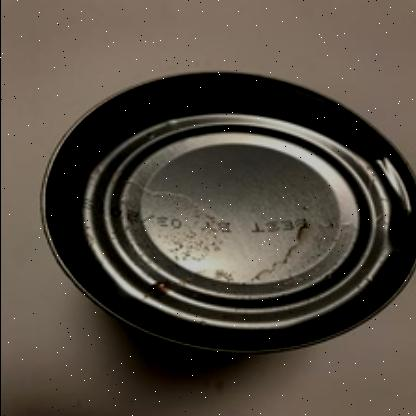Can: (36, 73, 416, 355)
